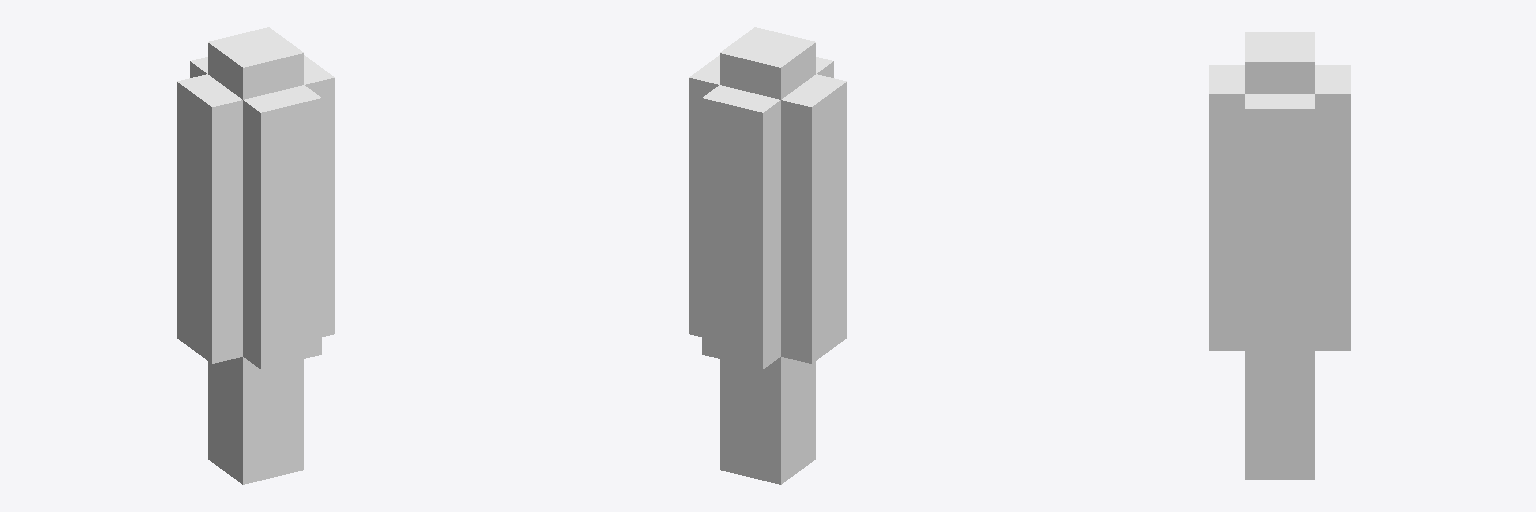
File: WoodenClub.obj
3 renders of one model, left to right at view 1: azimuth 30°, elevation 25°; view 2: azimuth 150°, elevation 25°; view 3: azimuth 270°, elevation 25°, orthographic.
Parts seen in each view (by area): view 1: object 1; view 2: object 1; view 3: object 1.
Part boxes in pixels (x1,y1,x2,y2): object 1: (177, 27, 334, 484); object 1: (689, 27, 846, 484); object 1: (1209, 32, 1350, 479).
Bounding box in the file's own units: 0.4 × 1.3 × 0.4.